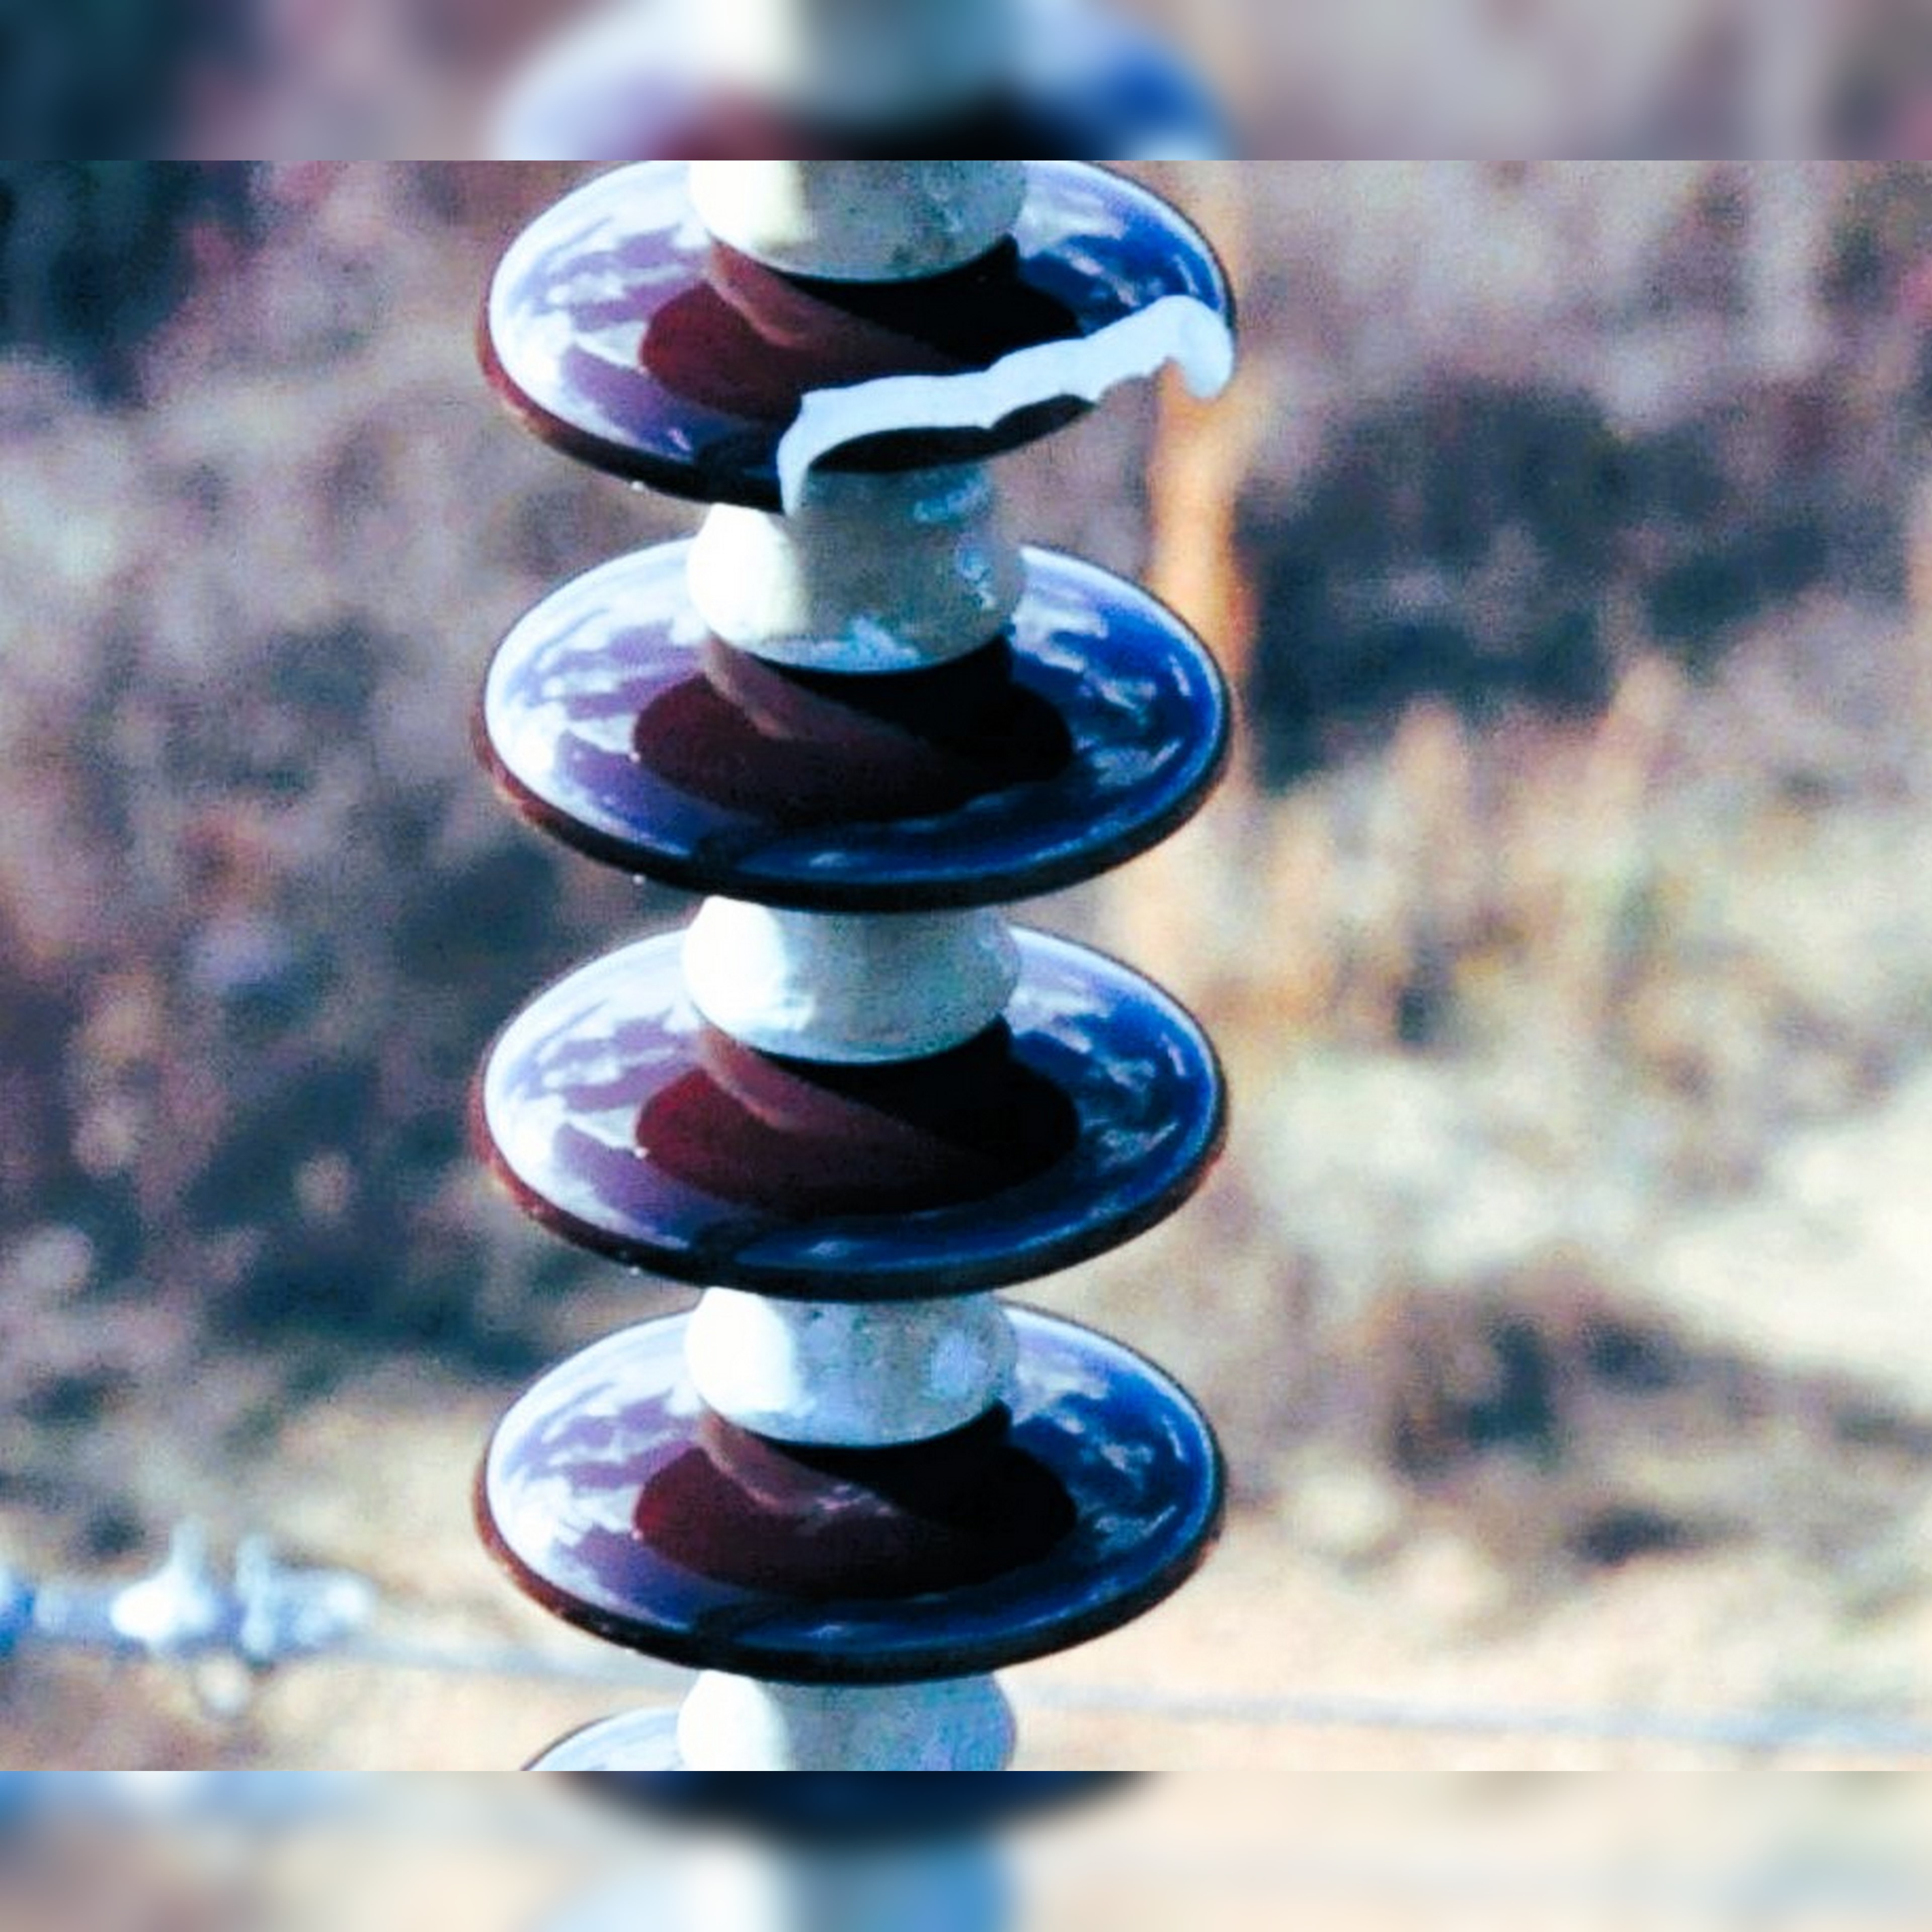insulator breakage: (426, 149, 1283, 531)
